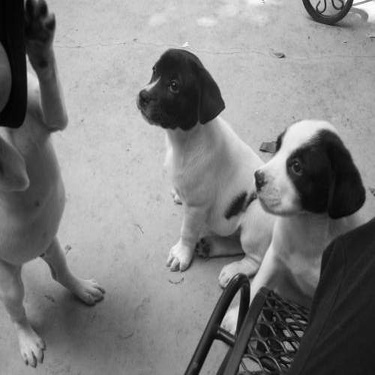dog: (211, 112, 371, 362), (1, 14, 111, 369), (123, 44, 271, 277)
